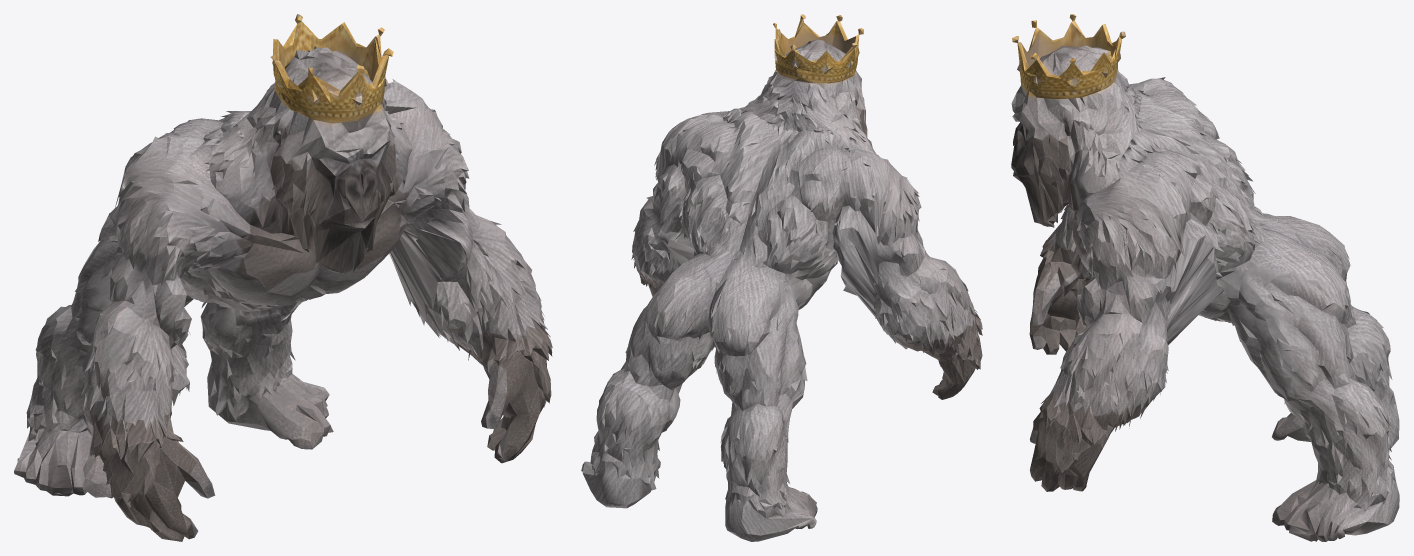
The model's file is pet_gorilla_white_kn.glb.
The picture shows the model from 3 angles, left to right: view 1: azimuth 30°, elevation 25°; view 2: azimuth 150°, elevation 25°; view 3: azimuth 270°, elevation 25°; orthographic projection. The views are drawn at different scales.
Parts seen in each view (by area): view 1: char1; view 2: char1; view 3: char1.
Boxes of the visible parts, box(x1,y1,x2,y2) form: char1: box(14, 14, 552, 541); char1: box(581, 14, 982, 541); char1: box(1011, 14, 1399, 541).
Bounding box in the file's own units: 1.09 × 1.23 × 0.9517.
Materials: 1 (1 with a texture image).
